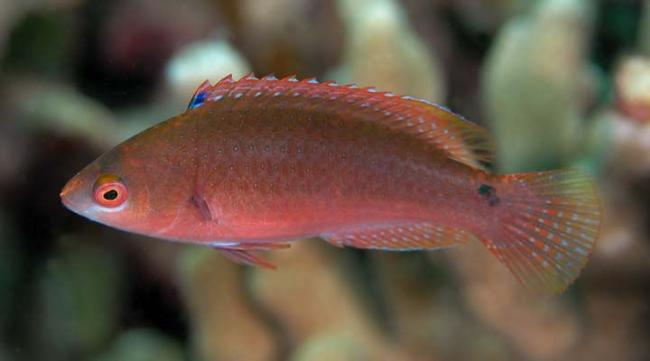fish: (58, 70, 602, 294)
